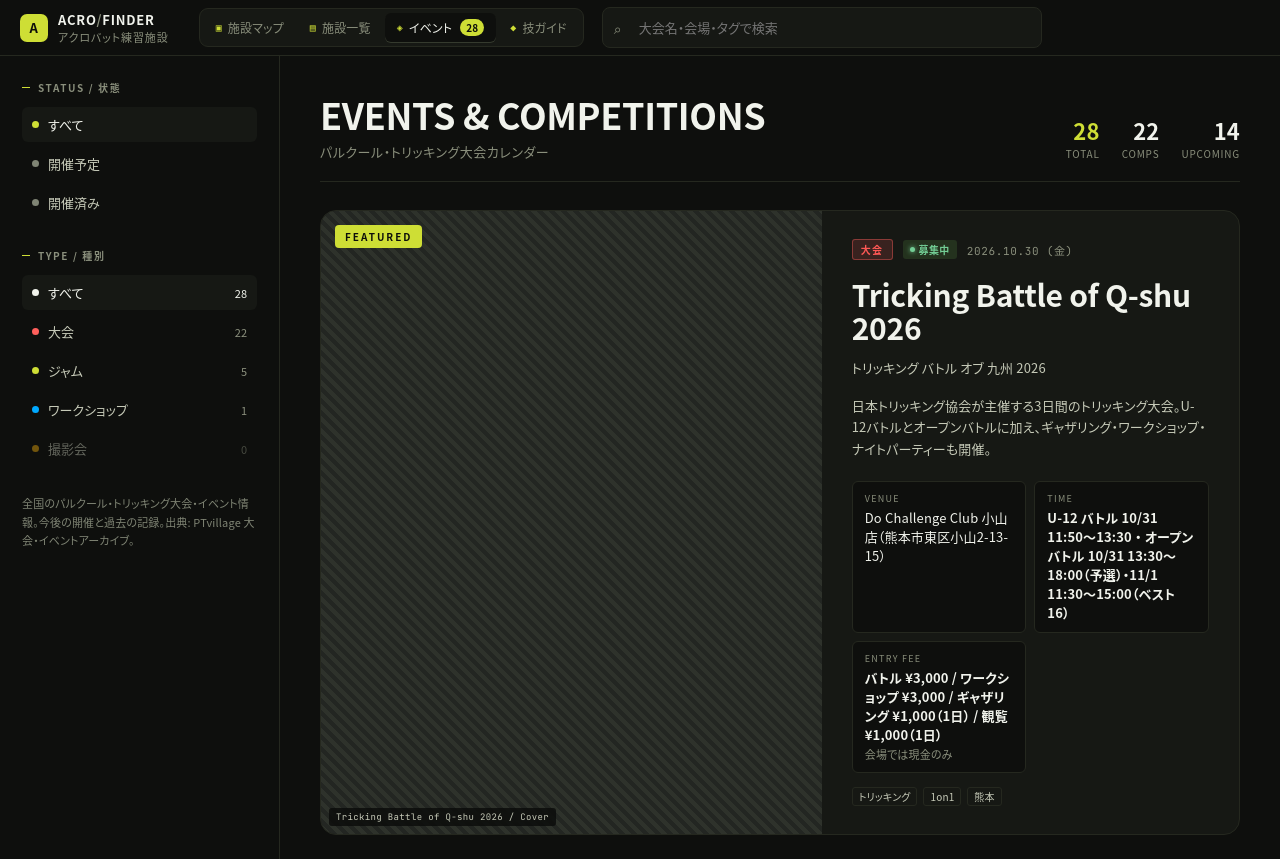
EventsFeed › shows an empty state when the search matches nothing
The image size is (1280, 859).
Type "zzz-no-such-event" into the search field with placeholder "大会名・会場・タグで検索". click: [822, 28]
box: [602, 7, 1042, 48]
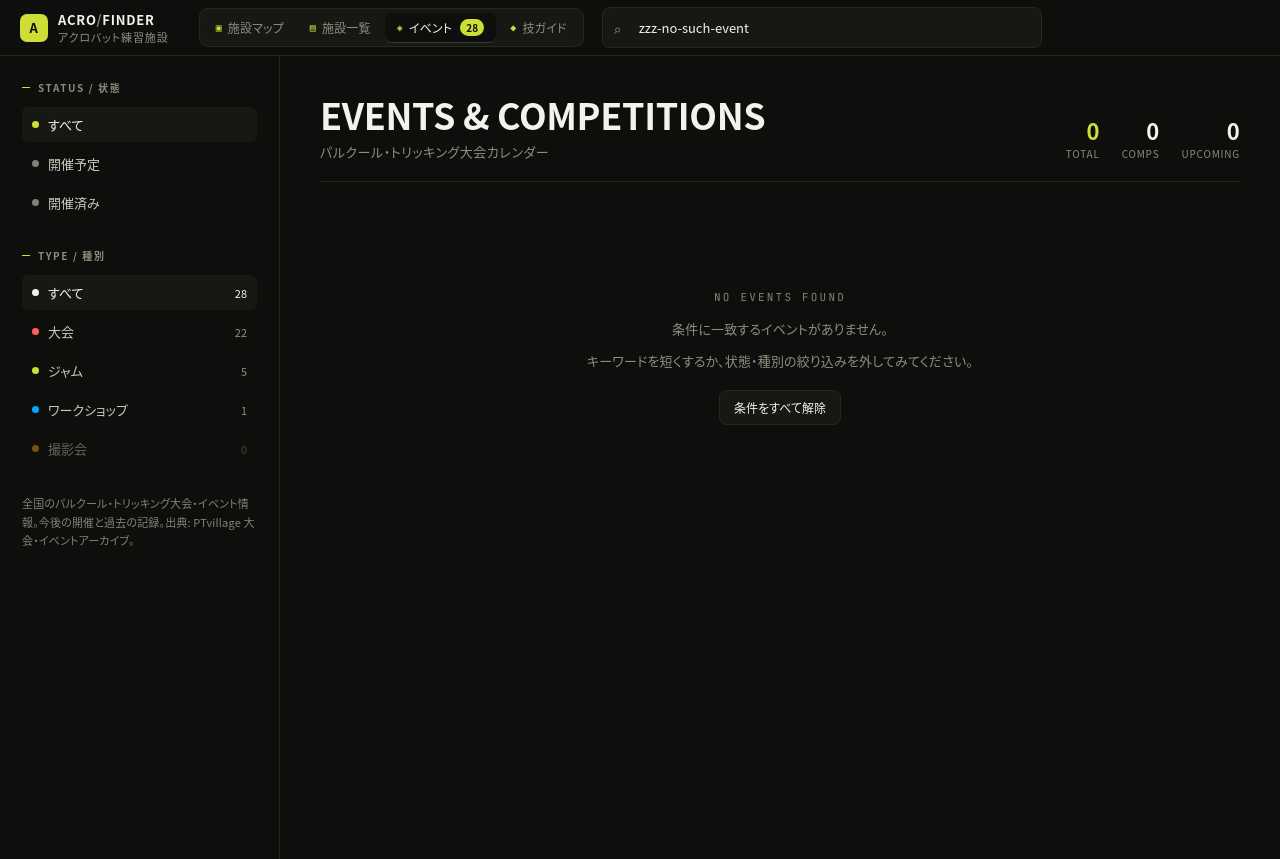
Result: the text "NO EVENTS FOUND" is shown at [714, 290, 846, 304]
